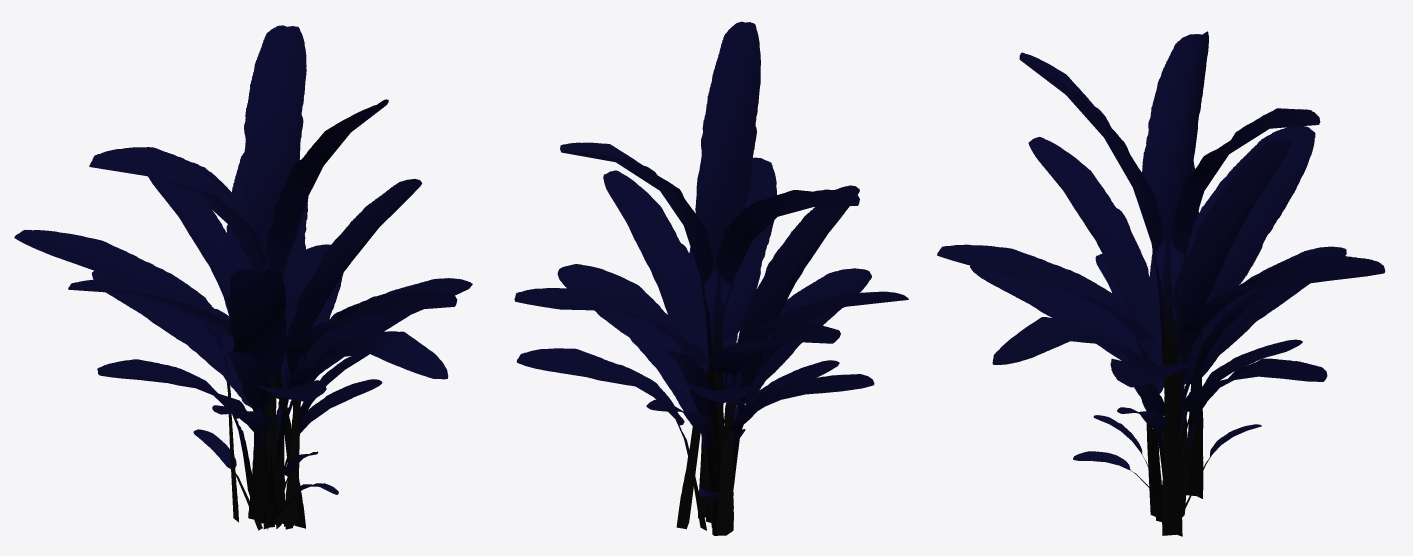
Rendered from SM_Foliage_PalmPlantA_01.fbx.
The picture shows the model from 3 angles, left to right: view 1: azimuth 30°, elevation 25°; view 2: azimuth 150°, elevation 25°; view 3: azimuth 270°, elevation 25°; orthographic projection. The views are drawn at different scales.
Parts seen in each view (by area): view 1: SM_Foliage_PalmPlantA_01; view 2: SM_Foliage_PalmPlantA_01; view 3: SM_Foliage_PalmPlantA_01.
Boxes of the visible parts, left/top/right/bottom form: SM_Foliage_PalmPlantA_01: left=14, top=25, right=472, bottom=530; SM_Foliage_PalmPlantA_01: left=514, top=21, right=908, bottom=535; SM_Foliage_PalmPlantA_01: left=937, top=31, right=1385, bottom=536.
Size of the model in its own units: 412 by 418 by 493.
